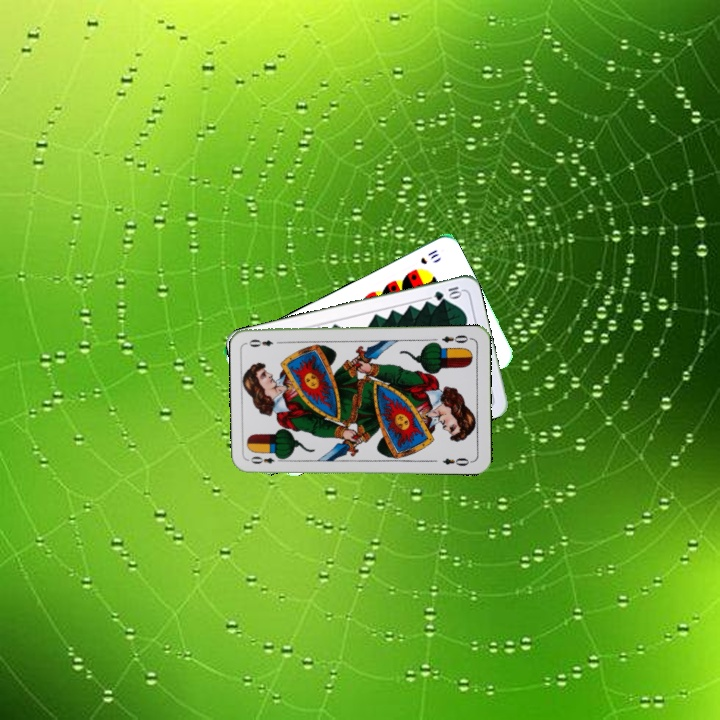EO: (247, 451, 286, 467), (438, 331, 474, 345)
G10: (430, 282, 464, 303)
S10: (416, 245, 441, 267)
